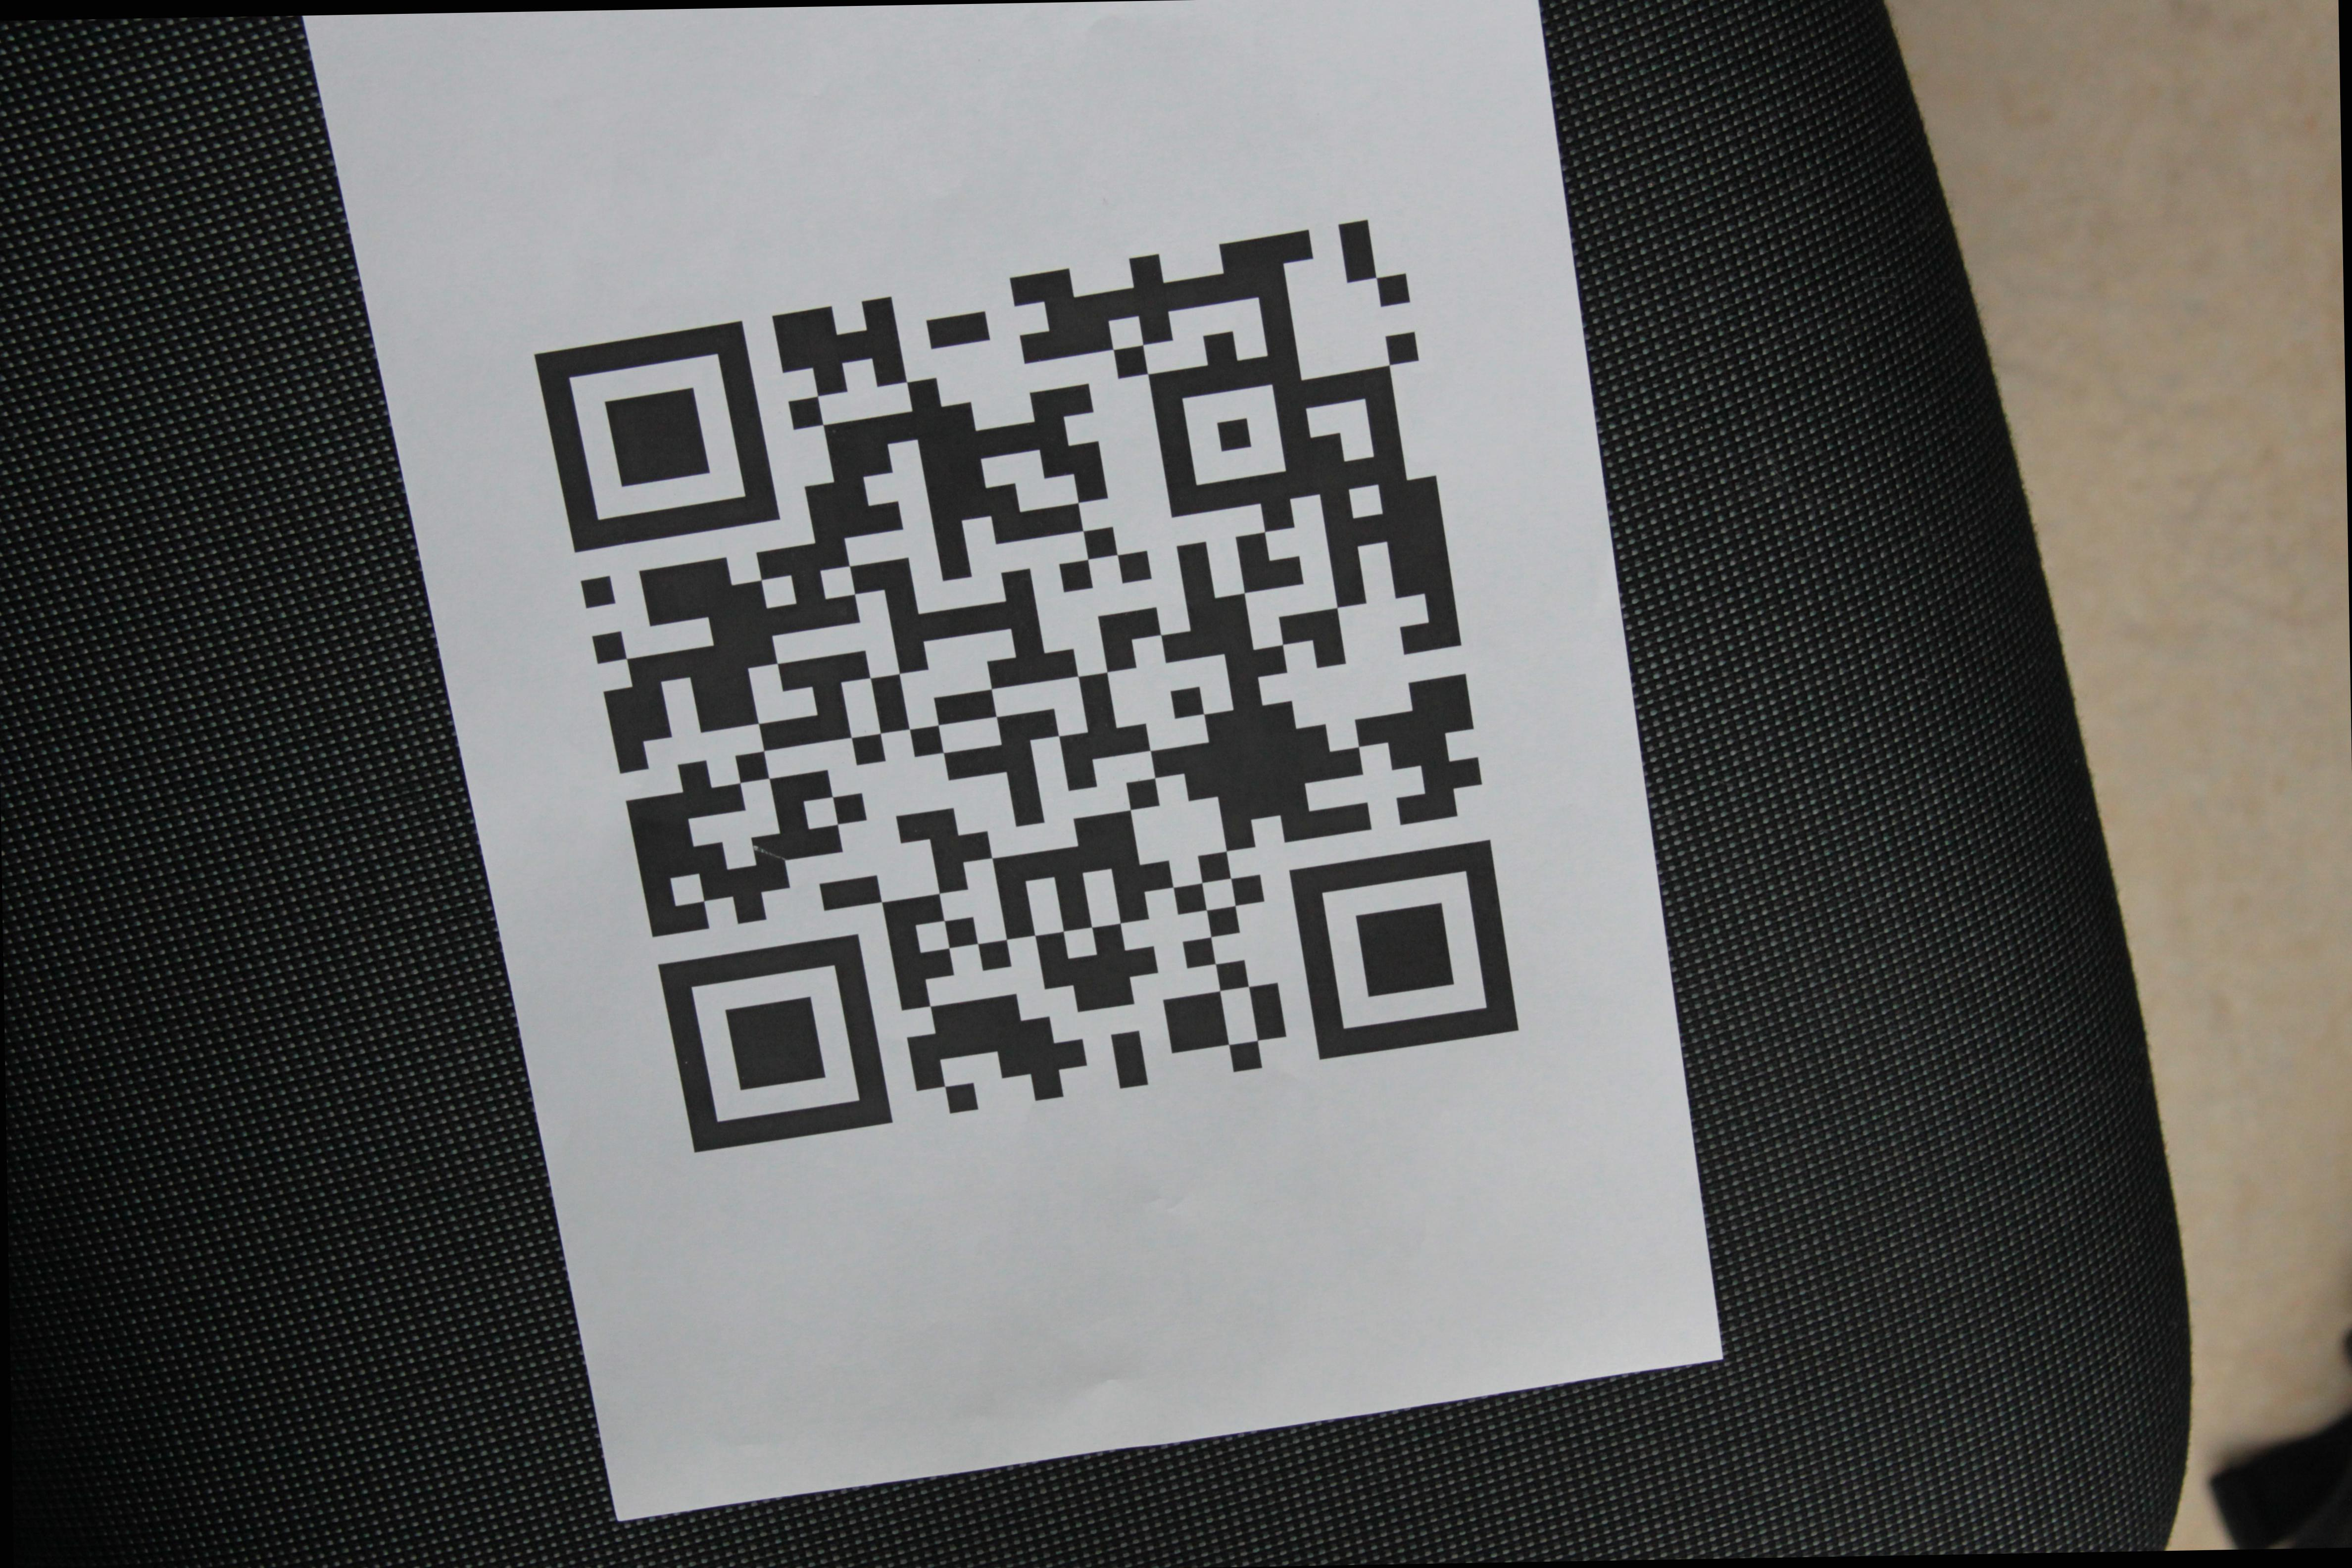QR: (521, 213, 1531, 1146)
